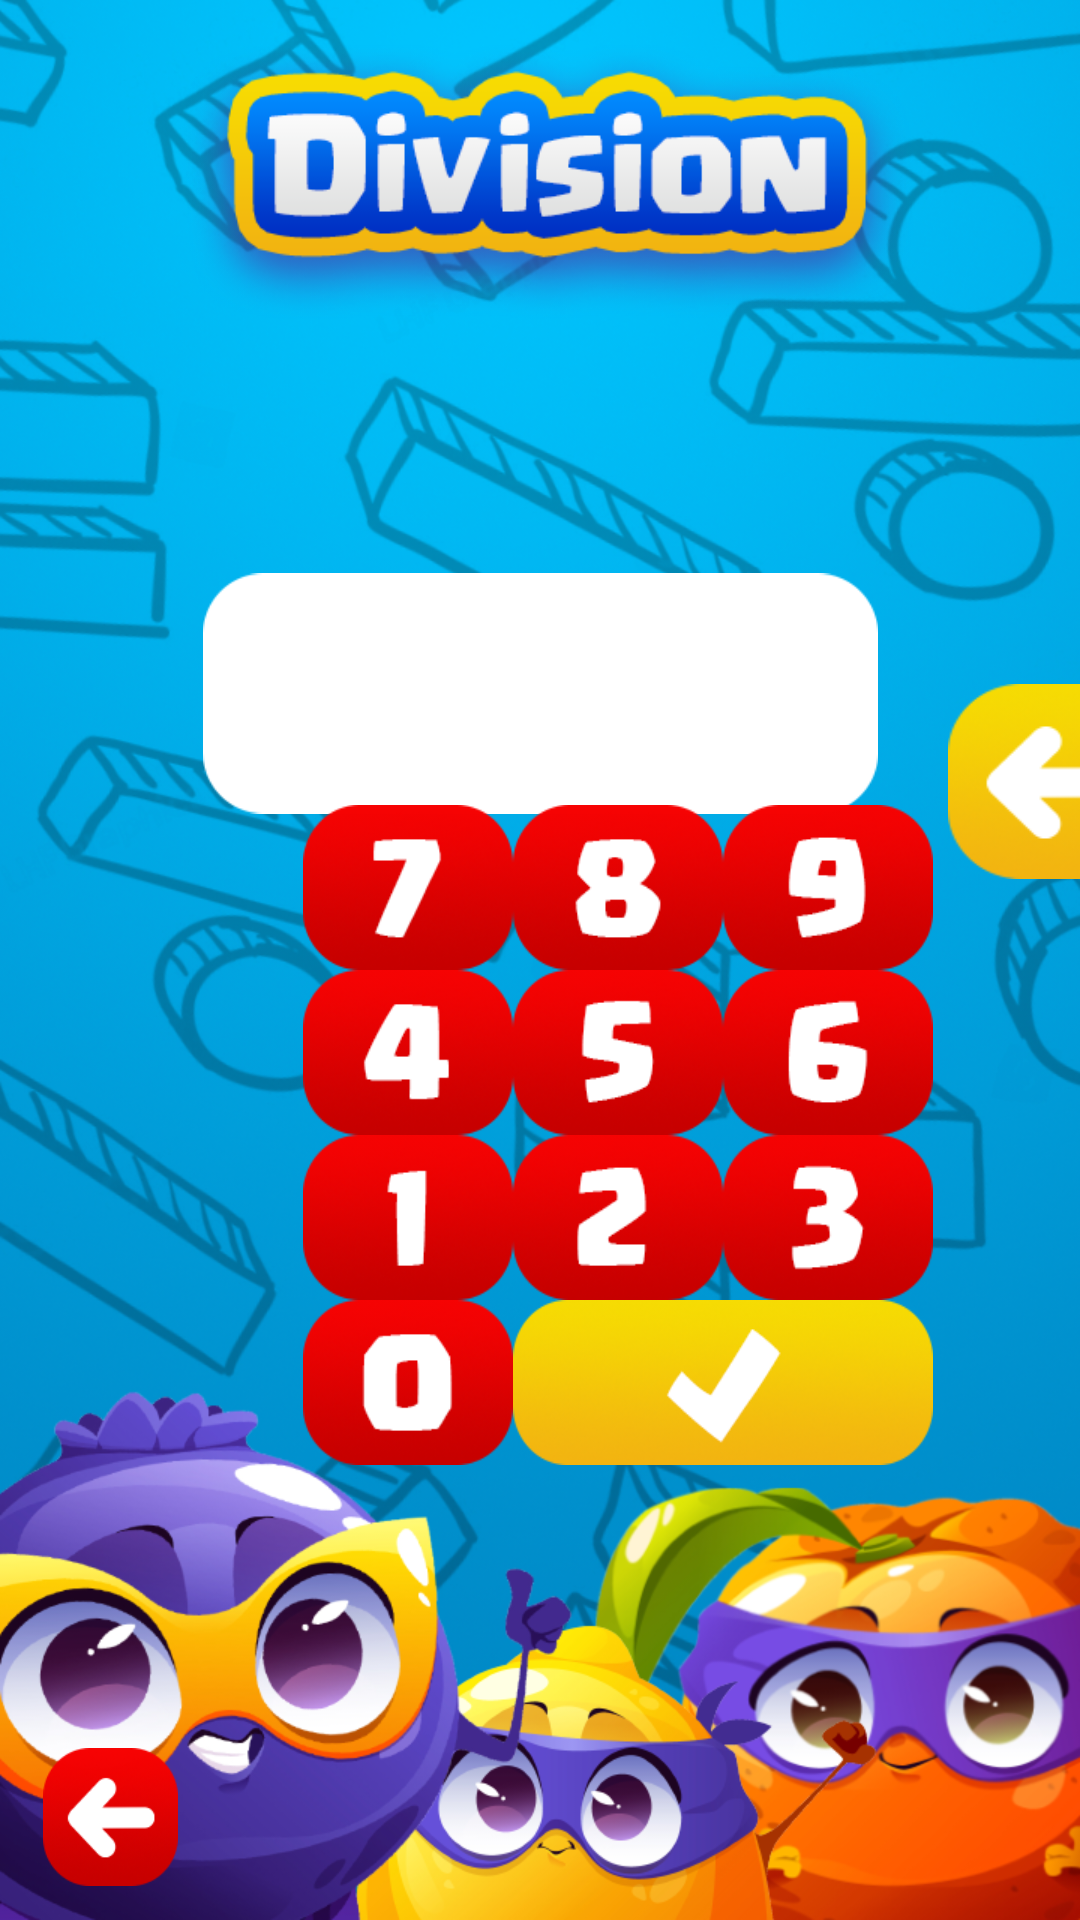

Icons on this 1080×1920 Android screen, each with the point to tap as point (x, y):
eight: point (618, 887)
nine: point (828, 887)
seven: point (408, 887)
six: point (828, 1052)
zero: point (408, 1382)
